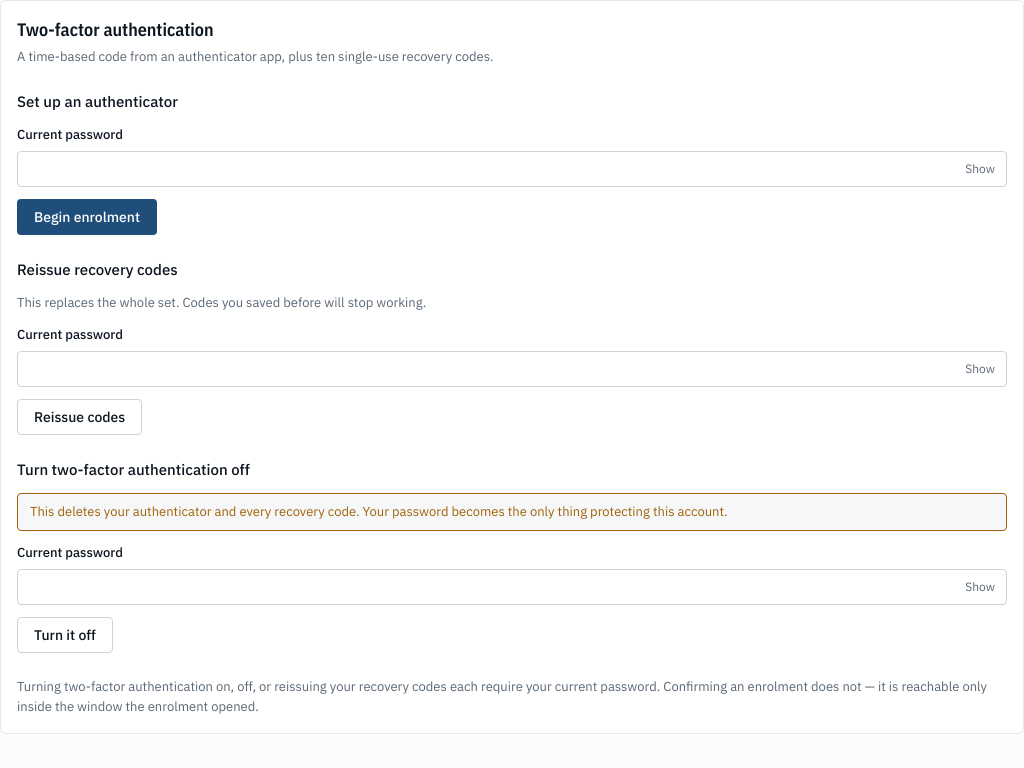
Test: MfaPanel — reissuing and disabling › asks a second time before disabling, and only then sends the request
This screenshot has width=1024, height=768.
In the password field labelled "Current password" below "Turn two-factor authentication off": (512, 587) 17,569 -> 1007,605, type "correct horse battery staple"
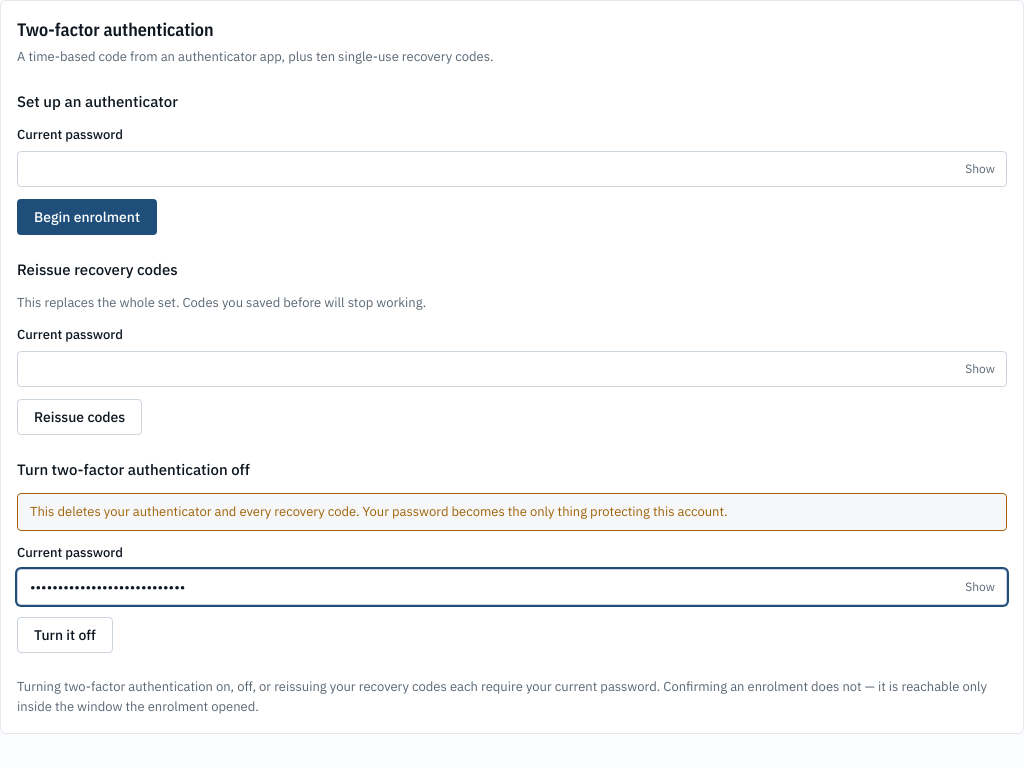
Click the button "Turn it off": (65, 635) 17,617 -> 113,653
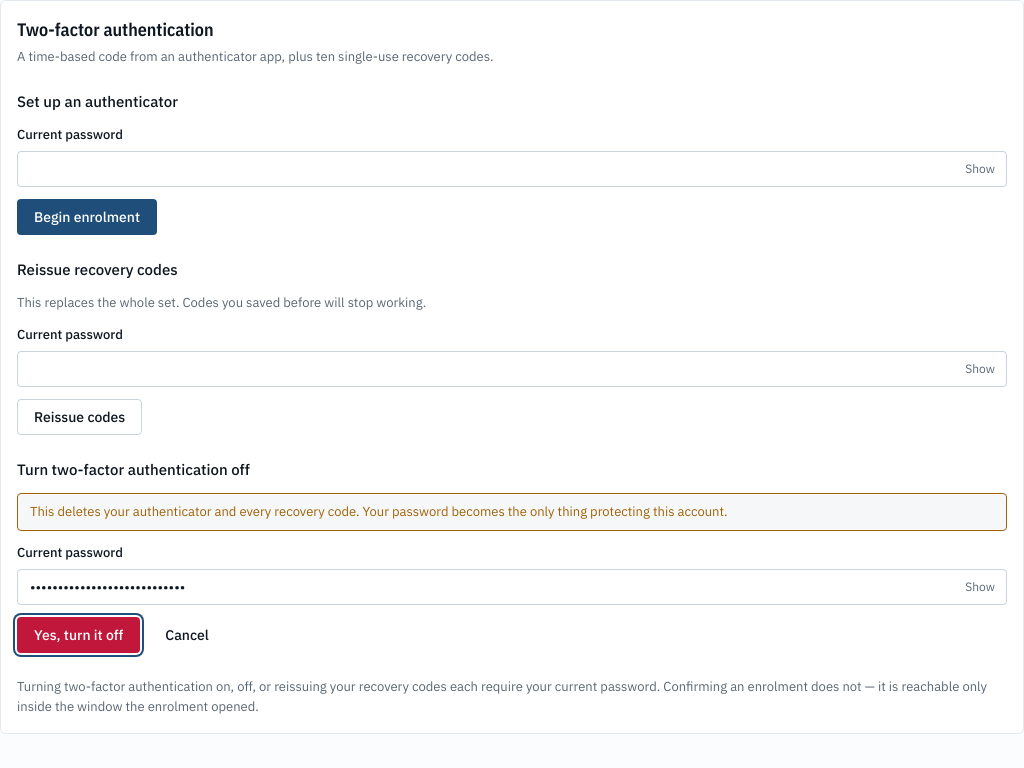
Click the button "Yes, turn it off": (79, 635) 17,617 -> 140,653
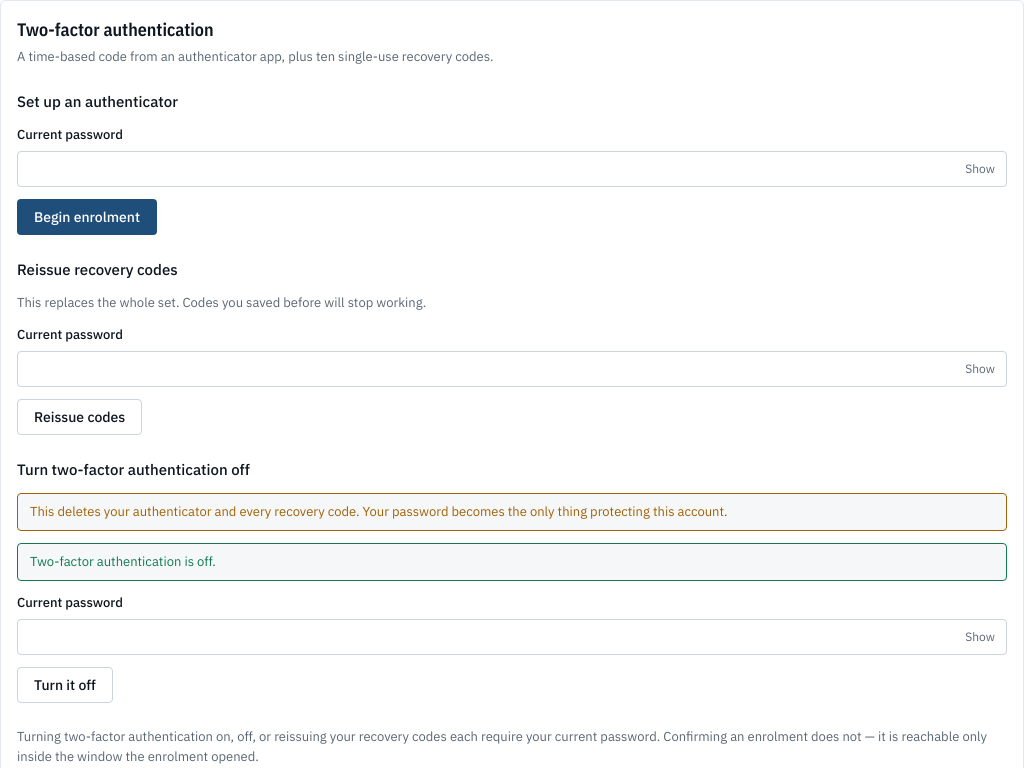
Expected: the text "Two-factor authentication is off." is shown, 30,552 -> 216,572
